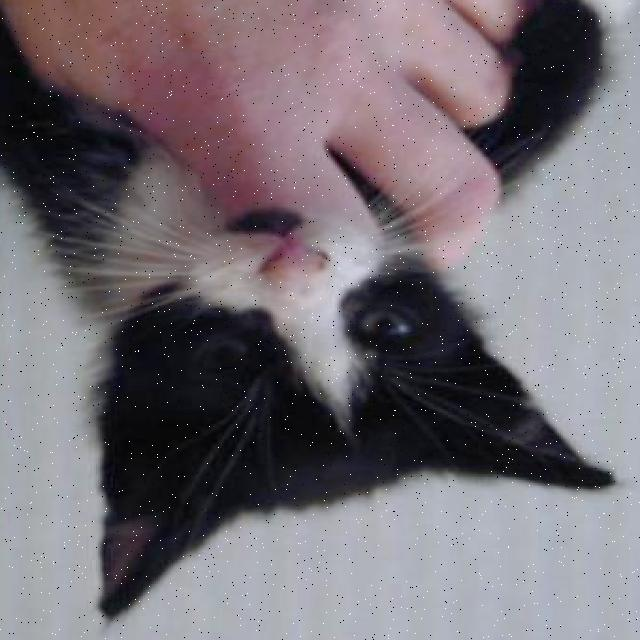Cat: (93, 199, 608, 636)
